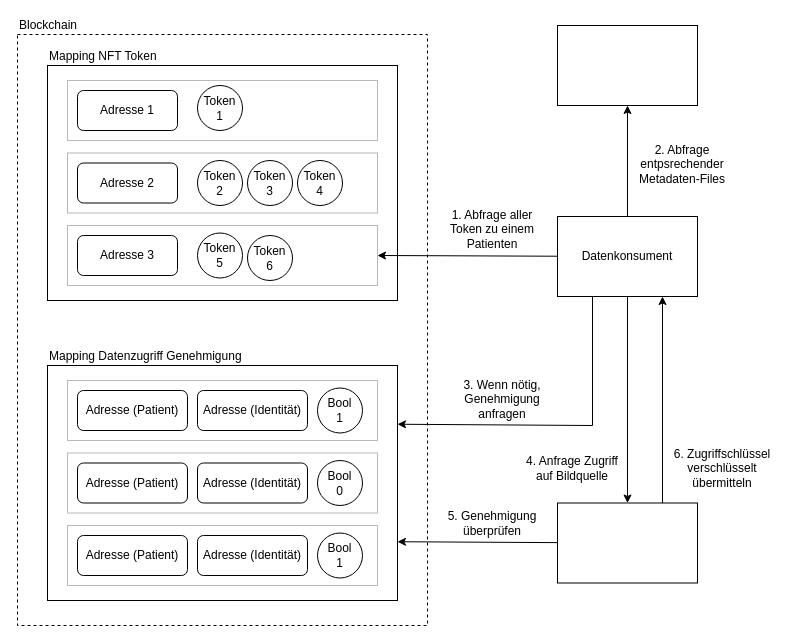
Some shapes in this 795 by 643 pixel diagram are drawn without their labels. Each missing label, with the centre of its shape:
"Bildgebende Dokumentenquelle" goes at point 627,542.
"IPFS-Repository" goes at point 627,65.
